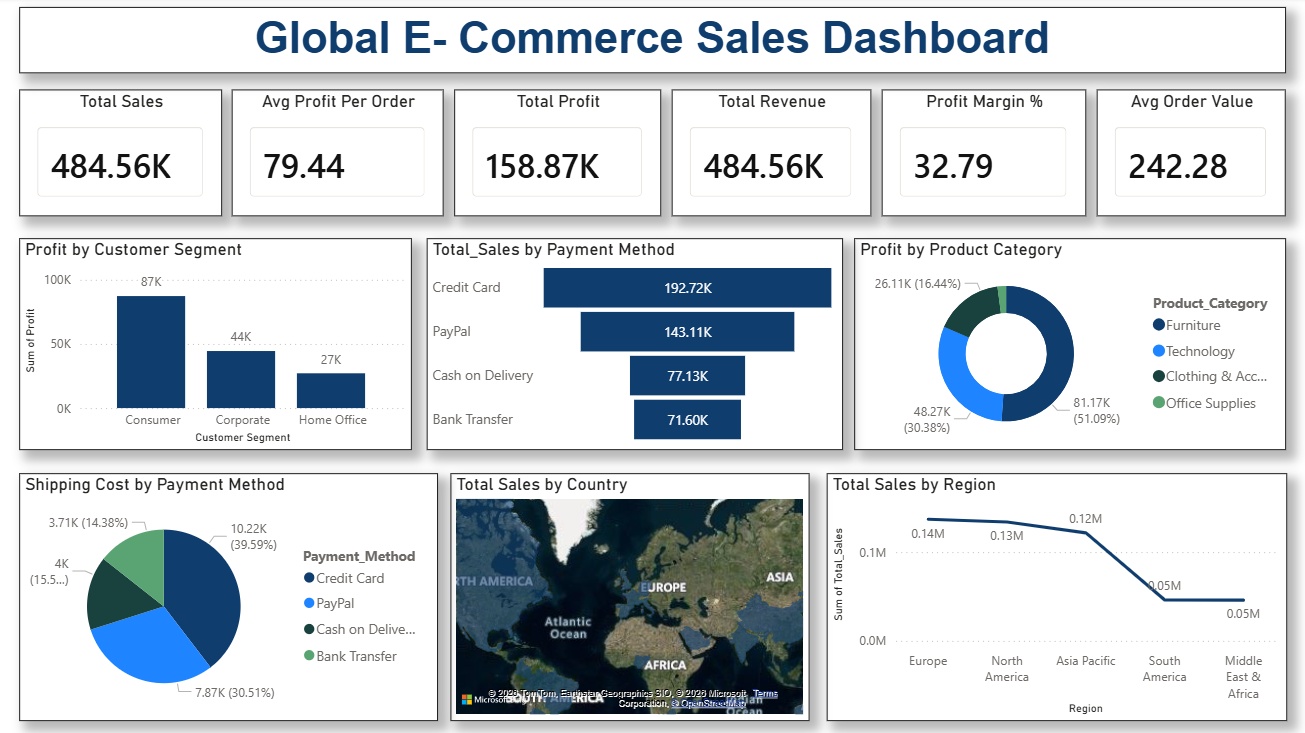

What the dashboard file says about the page in this screenshot:
{"tool":"powerbi","page":{"name":"Page 1","canvas":[1280,720],"ordinal":0},"visuals":[{"type":"lineChart","title":"Total Sales by Region","fields":{"Category":["global_ecommerce_sales.Region"],"Y":["Sum(global_ecommerce_sales.Total_Sales)"]},"box":[810.7,465.9,450,242.1],"z":0},{"type":"donutChart","title":"Profit by Product Category","fields":{"Category":["global_ecommerce_sales.Product_Category"],"Y":["Sum(global_ecommerce_sales.Profit)"]},"box":[838,235.9,422.1,207.3],"z":1000},{"type":"filledMap","title":"Total Sales by Country","fields":{"Category":["global_ecommerce_sales.Country"]},"box":[442.7,465.9,351,242.1],"z":2000},{"type":"clusteredColumnChart","title":" Profit by Customer Segment","fields":{"Category":["global_ecommerce_sales.Customer_Segment"],"Y":["Sum(global_ecommerce_sales.Profit)"]},"box":[21.1,235.9,383.6,207.3],"z":3000},{"type":"funnel","title":"Total_Sales by Payment Method","fields":{"Category":["global_ecommerce_sales.Payment_Method"],"Y":["Sum(global_ecommerce_sales.Total_Sales)"]},"box":[419.6,235.9,407.2,207.3],"z":4000},{"type":"pieChart","title":"Shipping Cost by Payment Method","fields":{"Category":["global_ecommerce_sales.Payment_Method"],"Y":["Sum(global_ecommerce_sales.Shipping_Cost)"]},"box":[20.8,465.9,409.6,242.1],"z":5000},{"type":"cardVisual","title":"Total Sales","fields":{"Data":["Sum(global_ecommerce_sales.Total_Sales)"]},"box":[21.1,90.6,198.6,124.2],"z":6000},{"type":"cardVisual","title":"Avg Profit Per Order","fields":{"Data":["global_ecommerce_sales.Avg Profit Per Order"]},"box":[228.4,90.6,207.3,124.2],"z":7000},{"type":"cardVisual","title":"Total Profit","fields":{"Data":["global_ecommerce_sales.Total Profit"]},"box":[446.9,90.6,202.4,124.2],"z":8000},{"type":"cardVisual","title":"Total Revenue","fields":{"Data":["global_ecommerce_sales.Total Revenue"]},"box":[659.2,90.6,194.9,124.2],"z":9000},{"type":"cardVisual","title":"Profit Margin %","fields":{"Data":["global_ecommerce_sales.Profit Margin %"]},"box":[864.1,90.6,199.9,124.2],"z":10000},{"type":"textbox","box":[21.1,9.9,1239,64.6],"z":11000},{"type":"cardVisual","title":"Avg Order Value","fields":{"Data":["global_ecommerce_sales.Average Order Value"]},"box":[1075.2,90.6,185,124.2],"z":12000}]}

Visuals, with their boxes in screenshot pixels (x1, y1, x2, y2), scaled from the page's 1280x720 canvas onto the 1305x733 screenshot:
"Total Sales by Region" lineChart: bbox=(827, 474, 1285, 721)
"Profit by Product Category" donutChart: bbox=(854, 240, 1285, 451)
"Total Sales by Country" filledMap: bbox=(451, 474, 809, 721)
" Profit by Customer Segment" clusteredColumnChart: bbox=(22, 240, 413, 451)
"Total_Sales by Payment Method" funnel: bbox=(428, 240, 843, 451)
"Shipping Cost by Payment Method" pieChart: bbox=(21, 474, 439, 721)
"Total Sales" cardVisual: bbox=(22, 92, 224, 219)
"Avg Profit Per Order" cardVisual: bbox=(233, 92, 444, 219)
"Total Profit" cardVisual: bbox=(456, 92, 662, 219)
"Total Revenue" cardVisual: bbox=(672, 92, 871, 219)
"Profit Margin %" cardVisual: bbox=(881, 92, 1085, 219)
textbox: bbox=(22, 10, 1285, 76)
"Avg Order Value" cardVisual: bbox=(1096, 92, 1285, 219)
